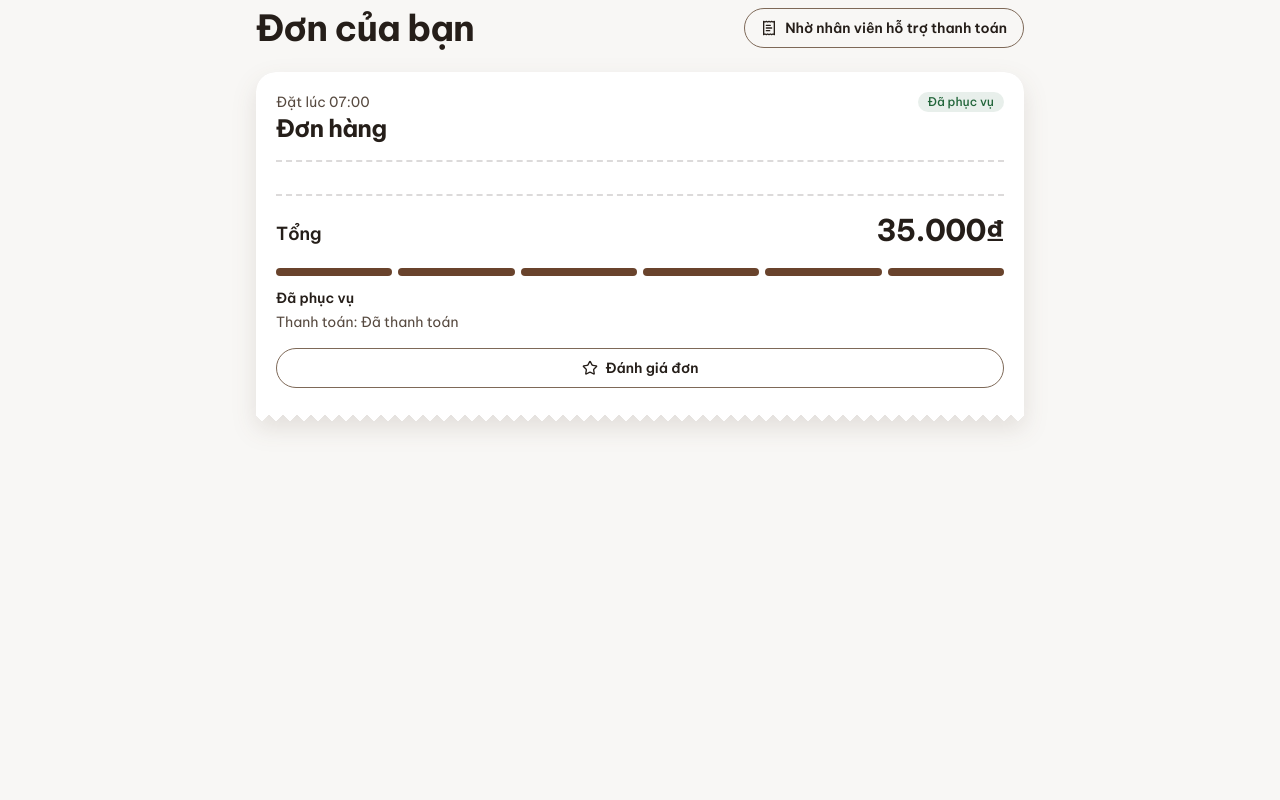
Test case: reviews per completed order while the table remains open › keeps the review form and comment after an error, allowing a retry
Later steps or results of the test are not shown.
Click the button "Đánh giá đơn". click: (640, 368)
box: [276,348,1004,388]
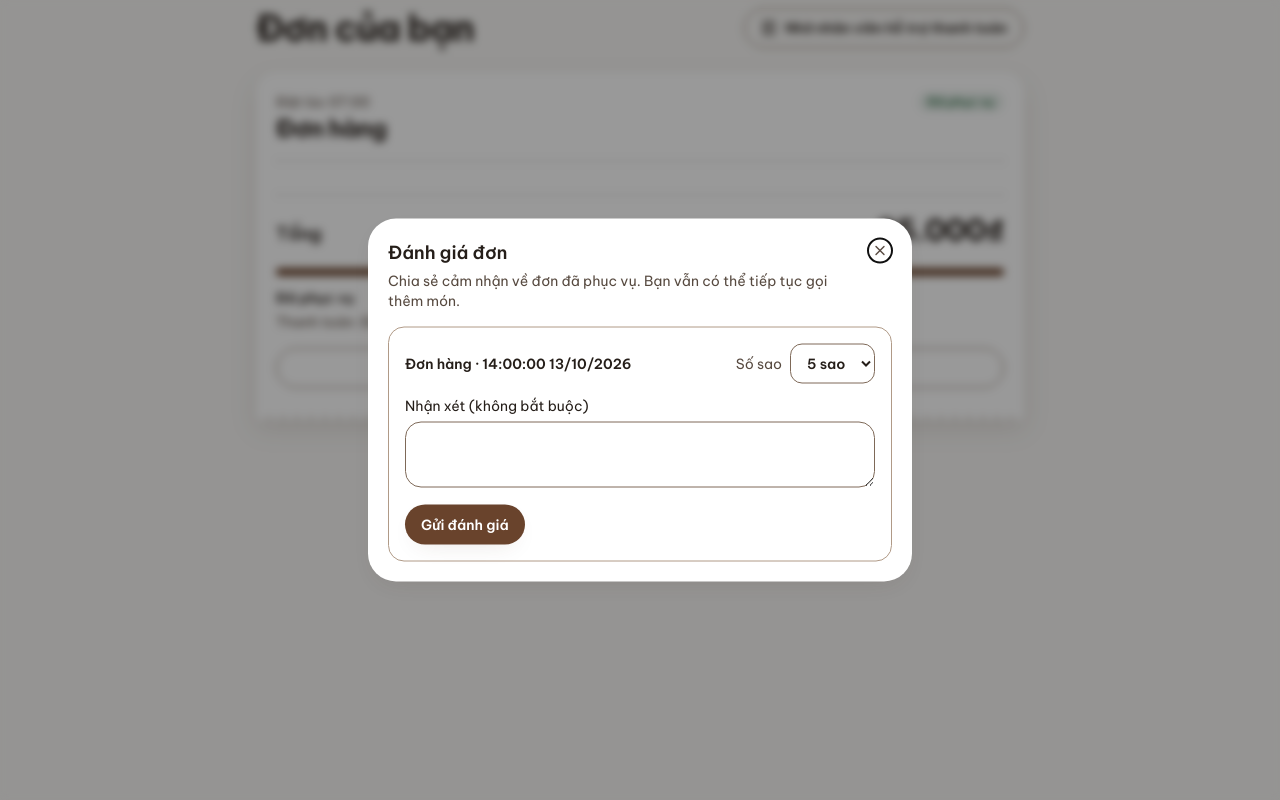
Type "Rất ngon" into the text box. click: (640, 454)
box: [405,422,875,488]
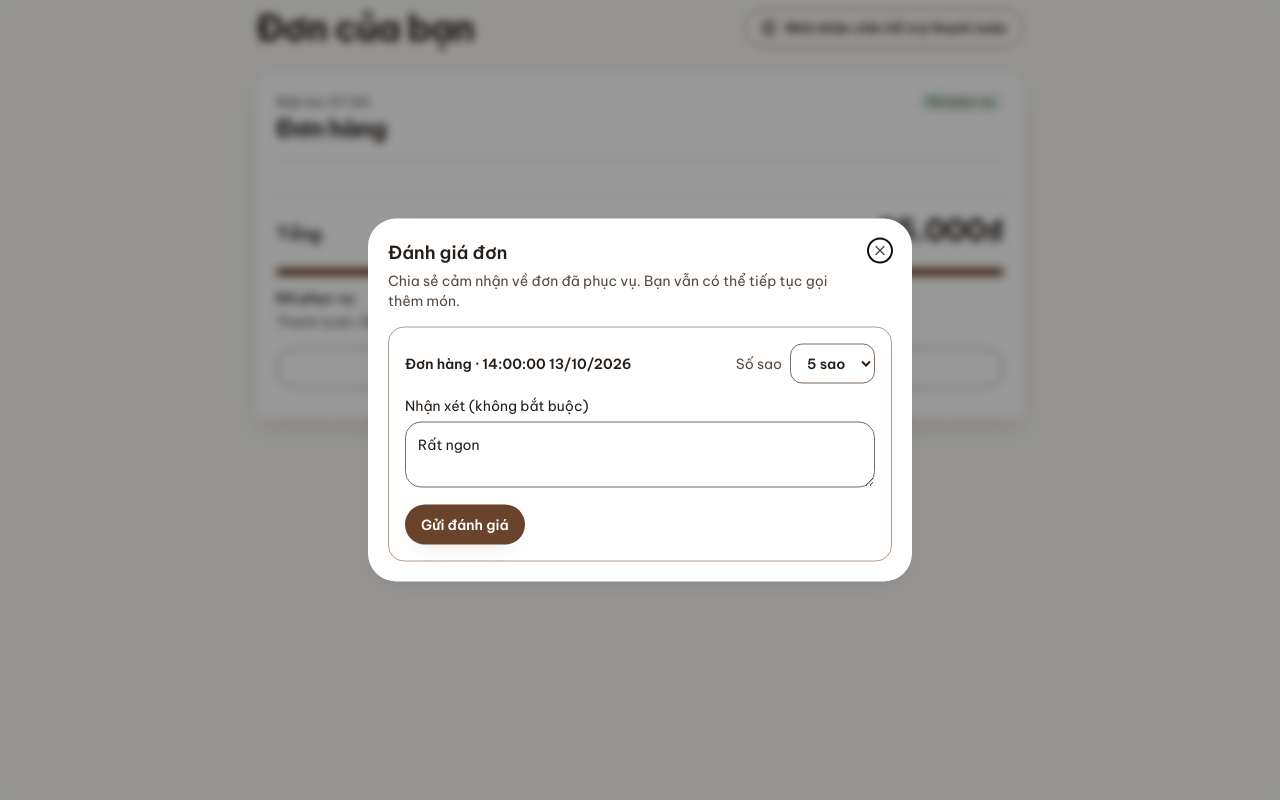
Click the button "Gửi đánh giá". click: (465, 524)
box: [405,504,525,544]
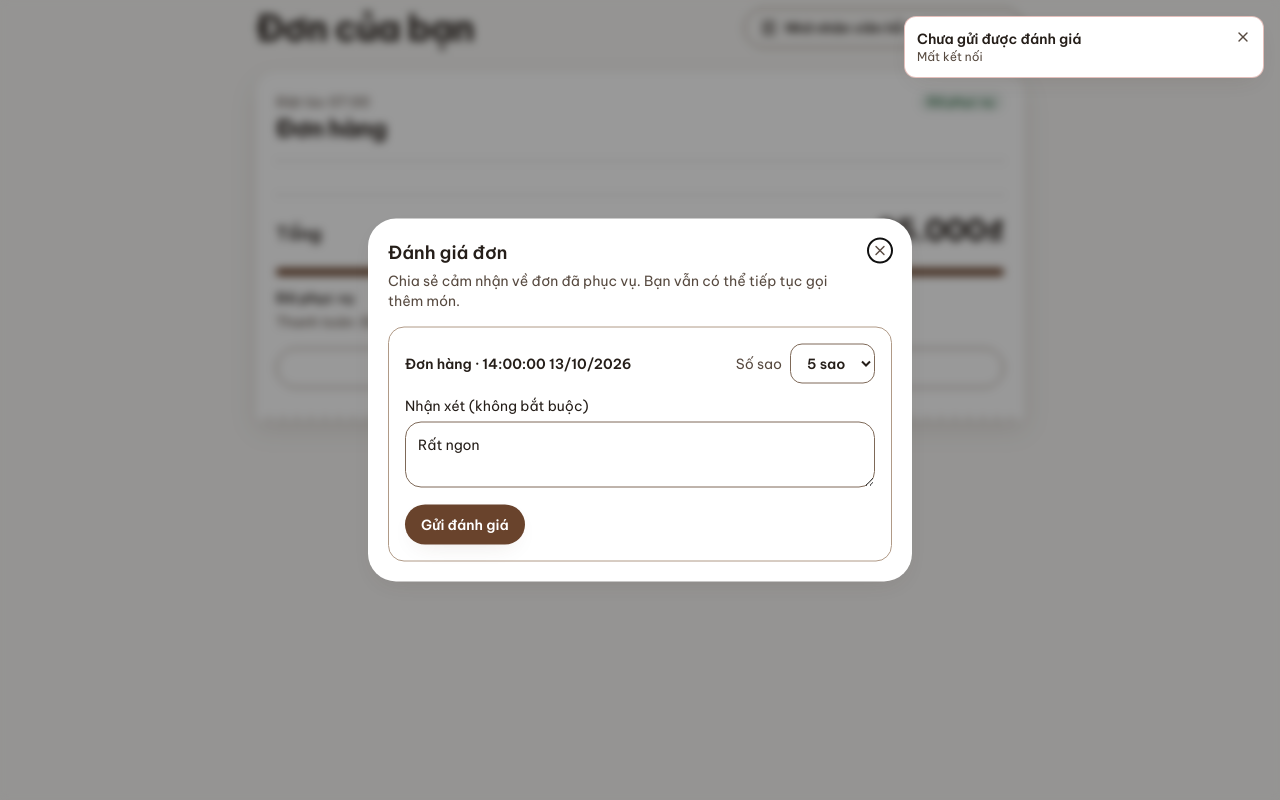
Result: the button "Gửi đánh giá" is enabled at [405,504,525,544]
Result: the text "Mất kết nối" is shown at [917,49,983,64]
